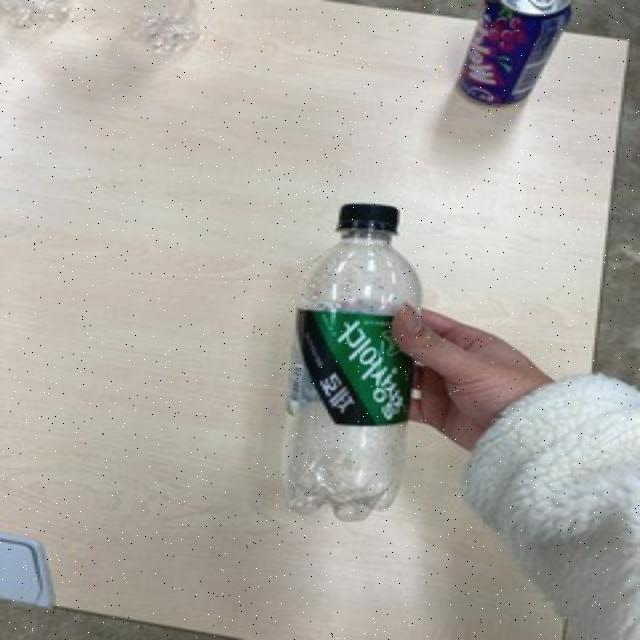bottle: (276, 195, 428, 527)
cap: (330, 198, 405, 242)
label: (290, 316, 408, 416)
